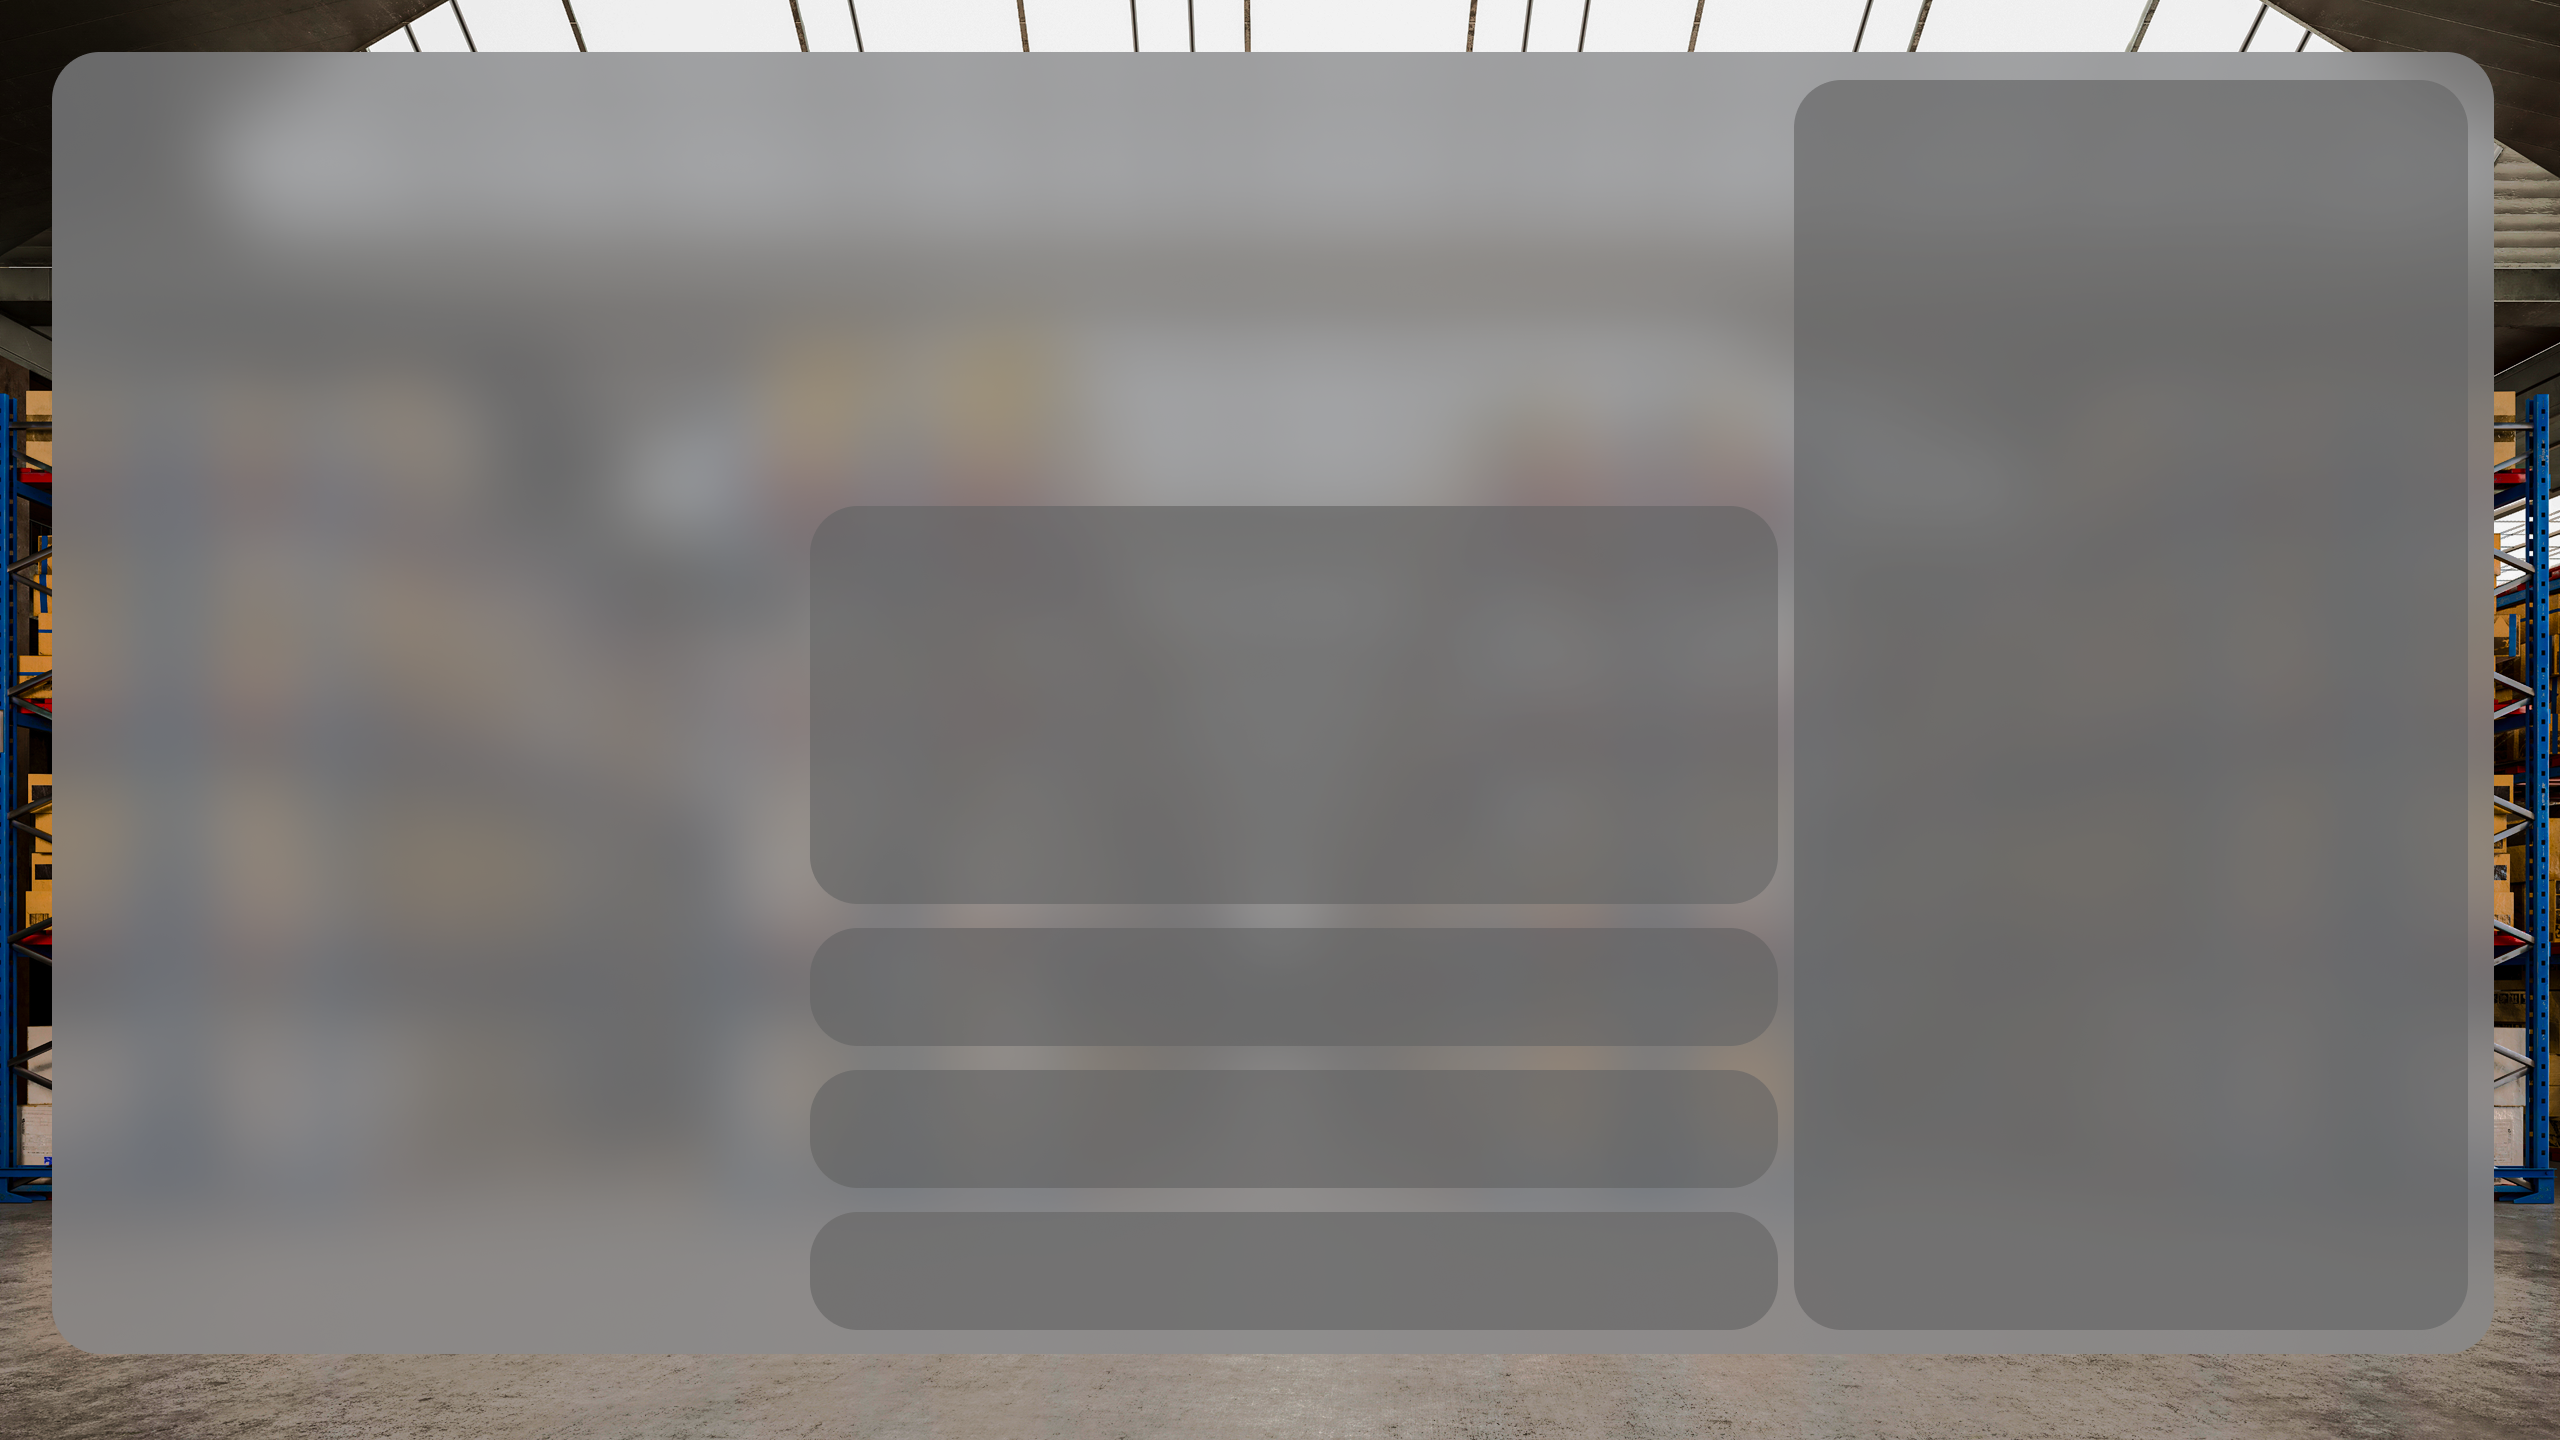

The dashboard page shown, as its layout file describes it:
{"tool":"powerbi","page":{"name":"Page 1","canvas":[1280,720],"ordinal":0},"visuals":[{"type":"lineChart","fields":{"Category":["Sheet1.Data de Coleta.Variation.Date Hierarchy.Year","Sheet1.Data de Coleta.Variation.Date Hierarchy.Quarter","Sheet1.Data de Coleta.Variation.Date Hierarchy.Month","Sheet1.Data de Coleta.Variation.Date Hierarchy.Day"],"Y":["Sheet1.AVERAGE VALOR FRETE"]},"box":[417.5,261.2,465.9,179.6],"z":0},{"type":"ImageGrid_FC5183B9_926C_45E0_B5F7_0CE9EAF1DA9B","fields":{"ImageURL":["Tipo_de_Veículo__Imagem. Imagem"]},"box":[406.2,70.6,701.5,416.3],"z":1000}]}

Visuals, with their boxes in screenshot pixels (x1, y1, x2, y2), scaled from the page's 1280x720 canvas onto the 2560x1440 screenshot:
lineChart - Sheet1.Data de Coleta.Variation.Date Hierarchy.Year x Sheet1.Data de Coleta.Variation.Date Hierarchy.Quarter: [x1=835, y1=522, x2=1767, y2=882]
ImageGrid_FC5183B9_926C_45E0_B5F7_0CE9EAF1DA9B - Tipo_de_Veículo__Imagem. Imagem: [x1=812, y1=141, x2=2215, y2=974]
